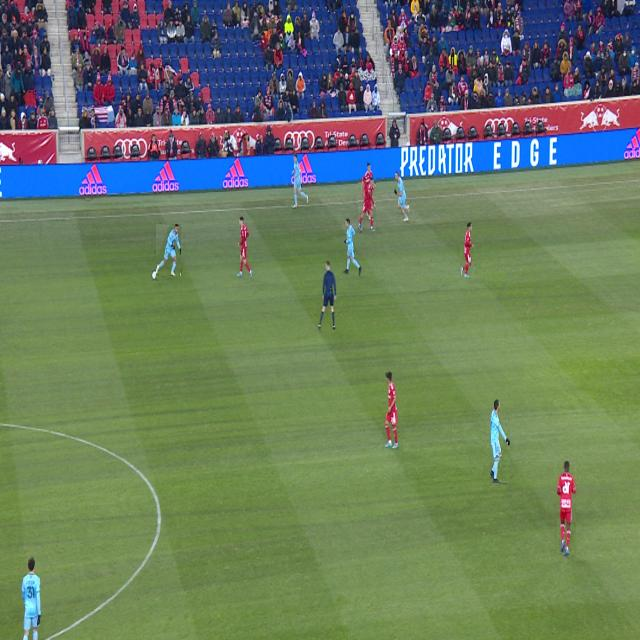football: (152, 270, 157, 279)
player: (557, 462, 576, 555), (490, 399, 510, 483), (22, 557, 41, 640), (156, 224, 181, 276), (344, 218, 362, 276), (385, 372, 398, 449), (358, 178, 376, 231), (238, 217, 253, 277), (292, 154, 308, 208), (394, 171, 410, 221), (461, 222, 474, 278), (363, 163, 373, 197)
referee: (319, 260, 337, 328)
